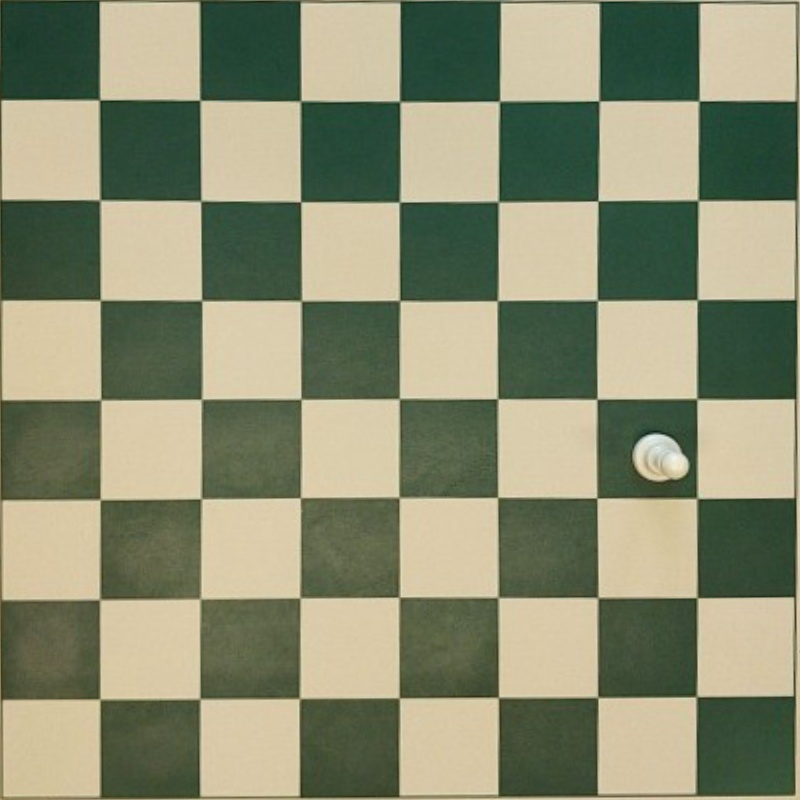white-pawn: (632, 432, 690, 483)
